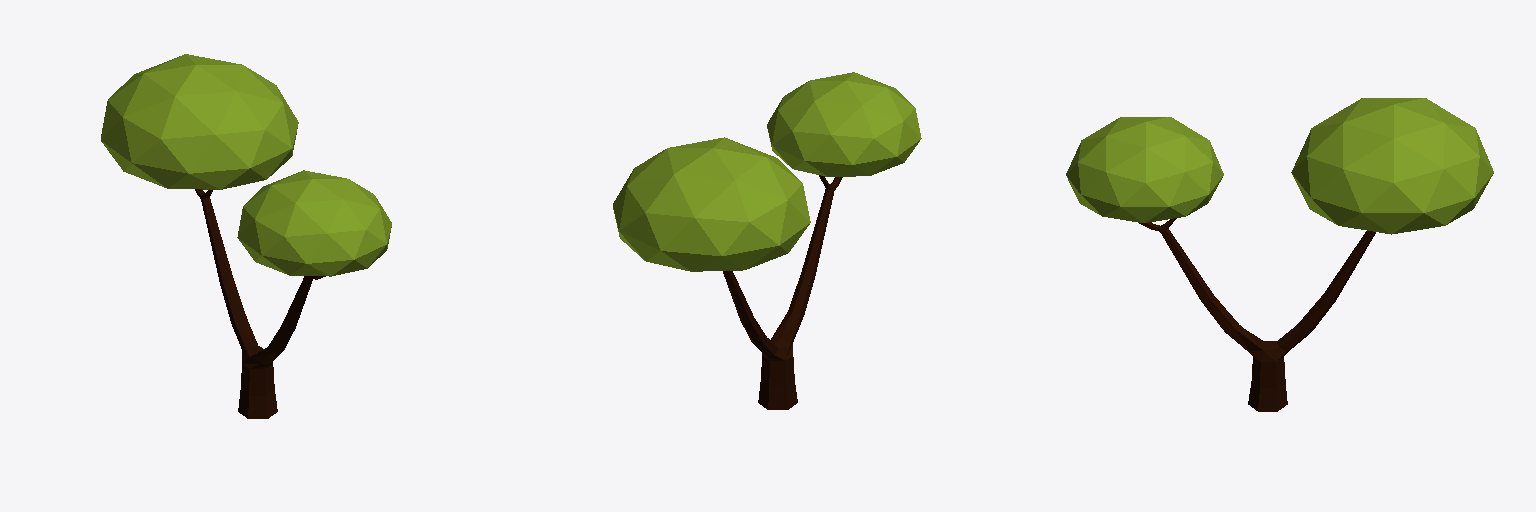
File: Tree2.obj
3 renders of one model, left to right at view 1: azimuth 30°, elevation 25°; view 2: azimuth 150°, elevation 25°; view 3: azimuth 270°, elevation 25°, orthographic.
Parts seen in each view (by area): view 1: Tree2_Icosphere.001; view 2: Tree2_Icosphere.001; view 3: Tree2_Icosphere.001.
Boxes of the visible parts, x1=… form: Tree2_Icosphere.001: x1=101, y1=54, x2=391, y2=418; Tree2_Icosphere.001: x1=613, y1=72, x2=921, y2=409; Tree2_Icosphere.001: x1=1066, y1=98, x2=1493, y2=411.
Bounding box in the file's own units: 2.89 × 4.98 × 6.43.